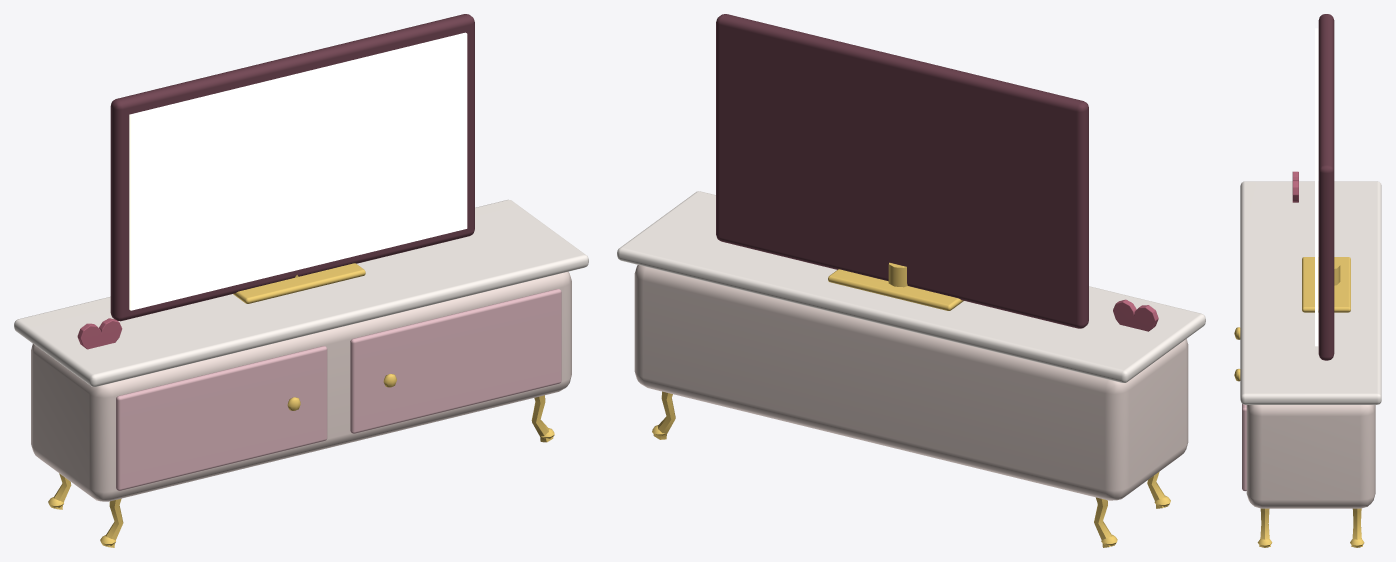
File: tv_console.glb
3 views of the same model, side by side, from view 1: azimuth 30°, elevation 25°; view 2: azimuth 150°, elevation 25°; view 3: azimuth 270°, elevation 25° (orthographic). The views are drawn at different scales.
Parts seen in each view (by area): view 1: tv_console; view 2: tv_console; view 3: tv_console.
Part boxes in pixels (x1,y1,x2,y2): tv_console: (14, 14, 588, 547); tv_console: (617, 14, 1205, 547); tv_console: (1234, 14, 1381, 547).
Bounding box in the file's own units: 1.66 × 1.31 × 0.4804.
